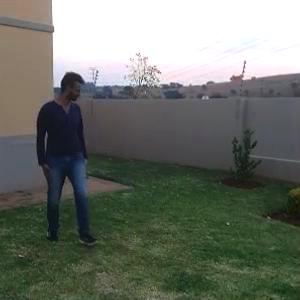follow: (38, 65, 101, 253)
